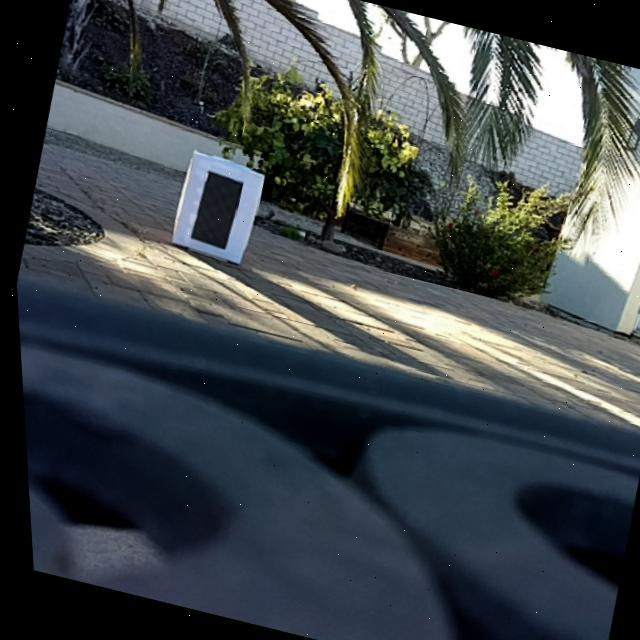led: (184, 169, 243, 251)
